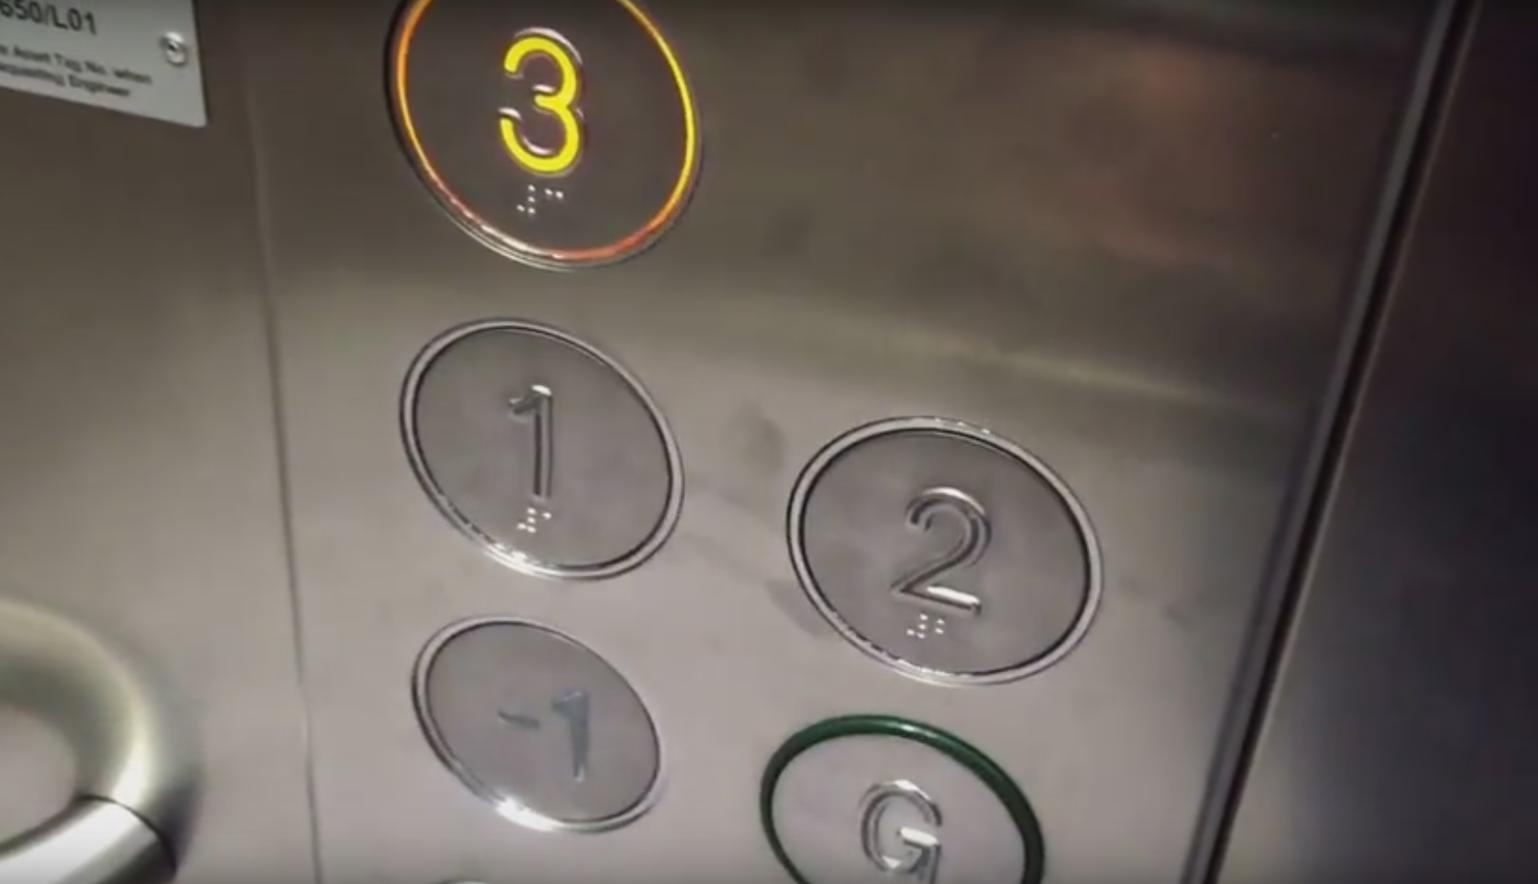-1: (407, 610, 665, 833)
1: (389, 311, 688, 582)
2: (776, 410, 1106, 691)
3: (374, 1, 705, 275)
G: (755, 710, 1050, 882)
